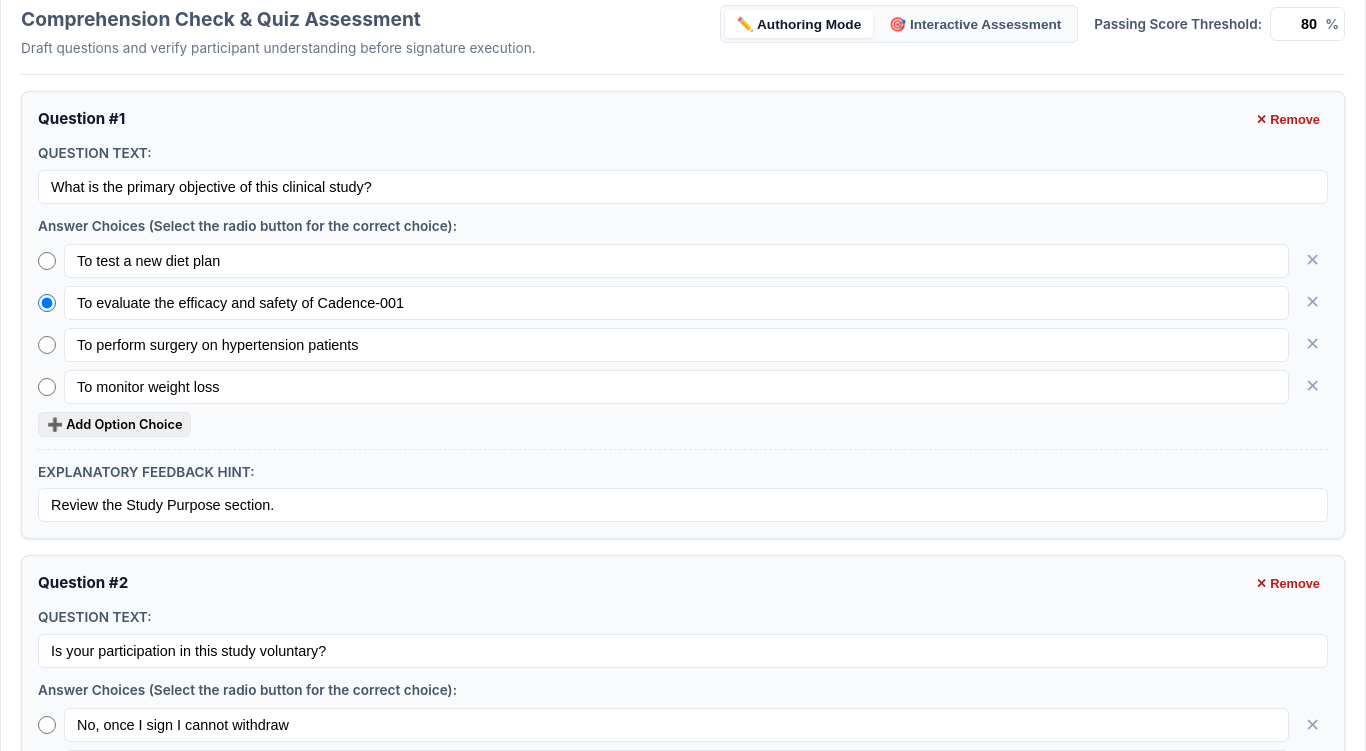
Test: ComprehensionQuizBuilder.vue Component Tests › switches to interactive assessment mode and presents questions with accessible options
The width and height of the screenshot is (1366, 751).
Click the tab with class "mode-tab-btn" showing "🎯 Interactive Assessment".
click(975, 24)  # box [877,10,1073,38]
(page scrolled)
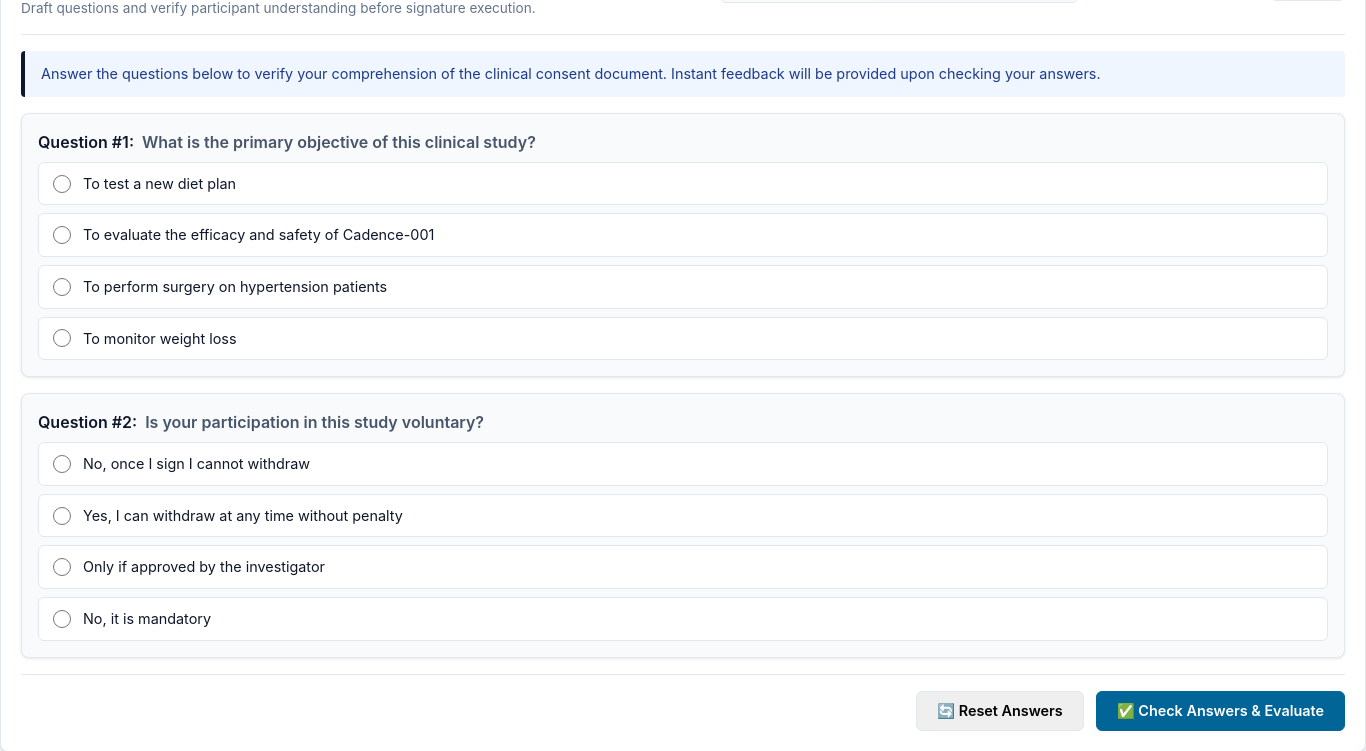
Expected: the element with class "interactive-view" is shown
Expected: the number of elements with class "assessment-question-card" is 2, [21,113,1345,377]; [21,393,1345,658]
Expected: the text "Question #1:" is shown, [38,130,134,154]
